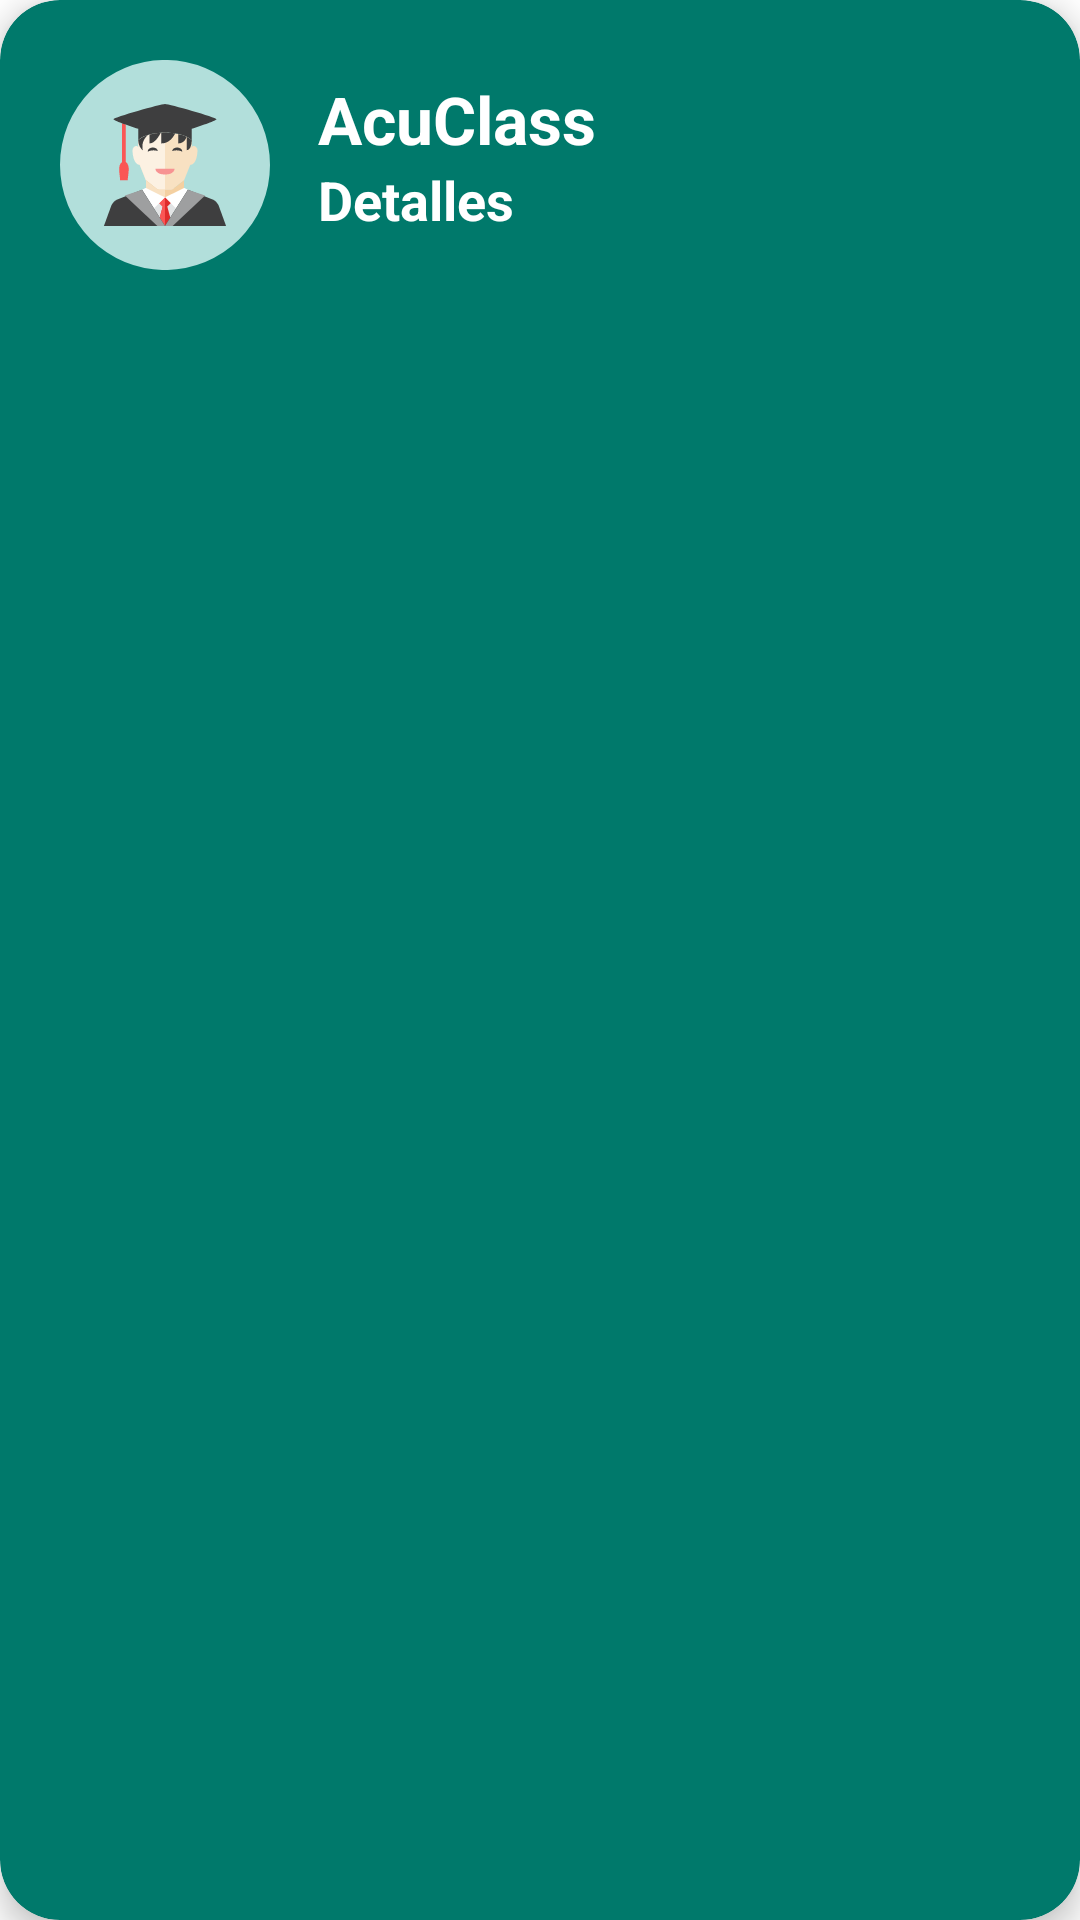

Screen size 1080 x 1920. Icon name, then its box in pixels as {"left": x1, "top": y1, "right": x2, "bottom": y2}:
student: {"left": 60, "top": 60, "right": 270, "bottom": 270}
